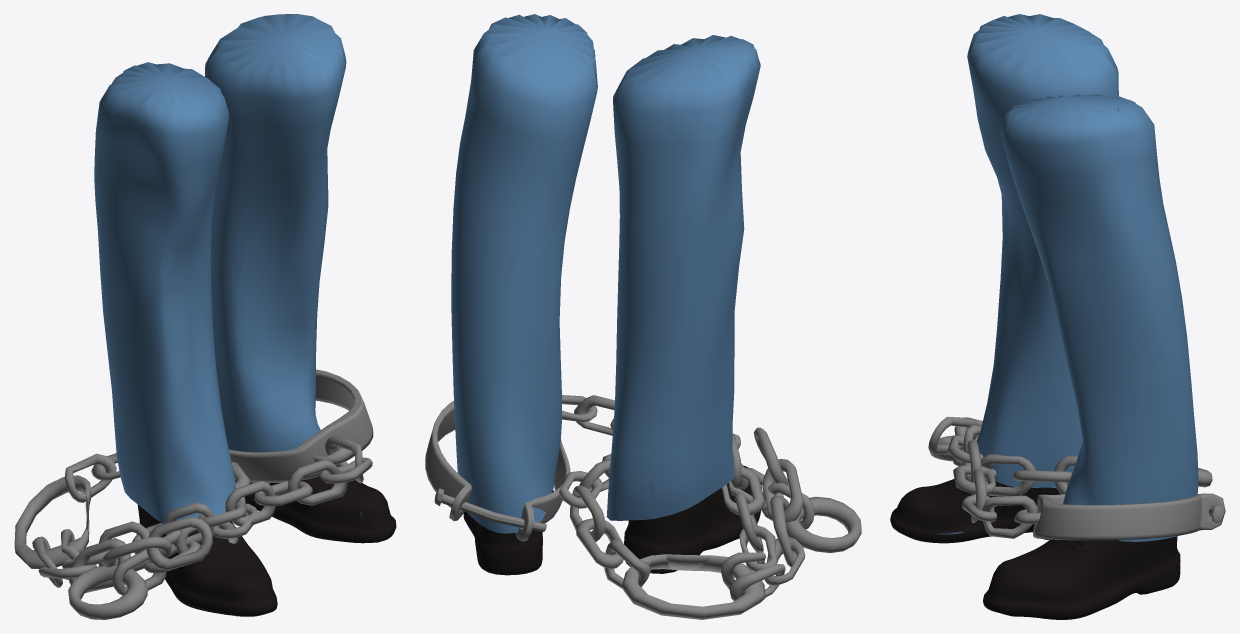
Rendered from legAndChain.obj.
3 renders of one model, left to right at view 1: azimuth 30°, elevation 25°; view 2: azimuth 150°, elevation 25°; view 3: azimuth 270°, elevation 25°, orthographic. The views are drawn at different scales.
Parts seen in each view (by area): view 1: workermanOBJ:Mesh, workermanOBJ:Mesh Object16; view 2: workermanOBJ:Mesh, workermanOBJ:Mesh Object16; view 3: workermanOBJ:Mesh, workermanOBJ:Mesh Object16.
Part boxes in pixels (x1=…): workermanOBJ:Mesh: x1=94, y1=14, x2=396, y2=616; workermanOBJ:Mesh Object16: x1=14, y1=369, x2=373, y2=619; workermanOBJ:Mesh: x1=451, y1=14, x2=761, y2=575; workermanOBJ:Mesh Object16: x1=425, y1=395, x2=861, y2=619; workermanOBJ:Mesh: x1=890, y1=14, x2=1198, y2=619; workermanOBJ:Mesh Object16: x1=928, y1=416, x2=1225, y2=540.
Size of the model in its own units: 5.87 by 8.14 by 5.
Materials: 2 (1 with a texture image).
